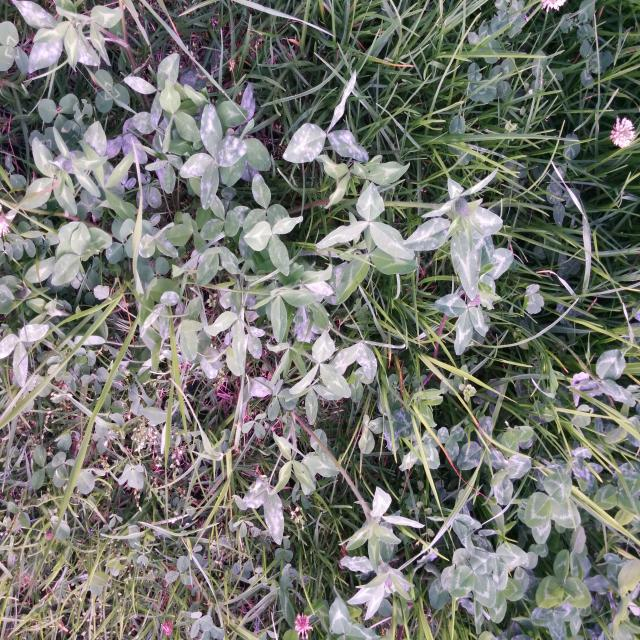Four Leaf Clover: (179, 105, 246, 210)
